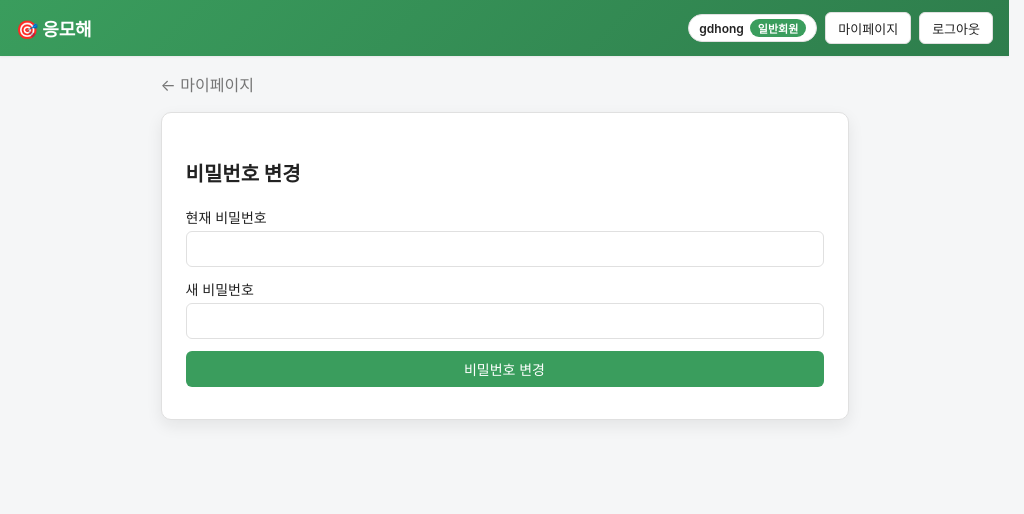
Test: MyPasswordChange › 비밀번호 변경 실패(401) 시 에러 메시지 표시, 로그아웃 안 됨
Type "wrongpass" into the password field labelled "현재 비밀번호". click: {"x": 504, "y": 249}
box: [186,231,824,267]
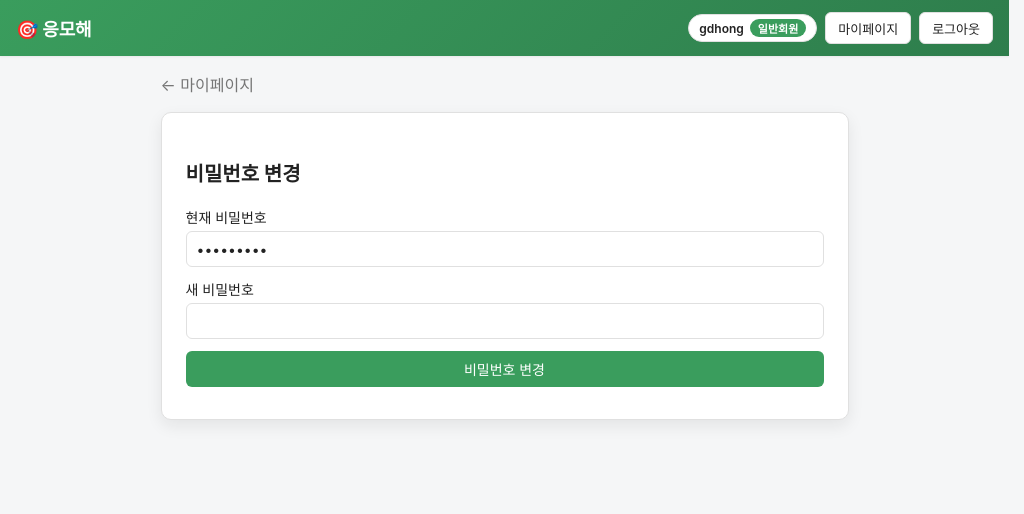
Type "newpass" into the password field labelled "새 비밀번호". click: {"x": 504, "y": 321}
box: [186,303,824,339]
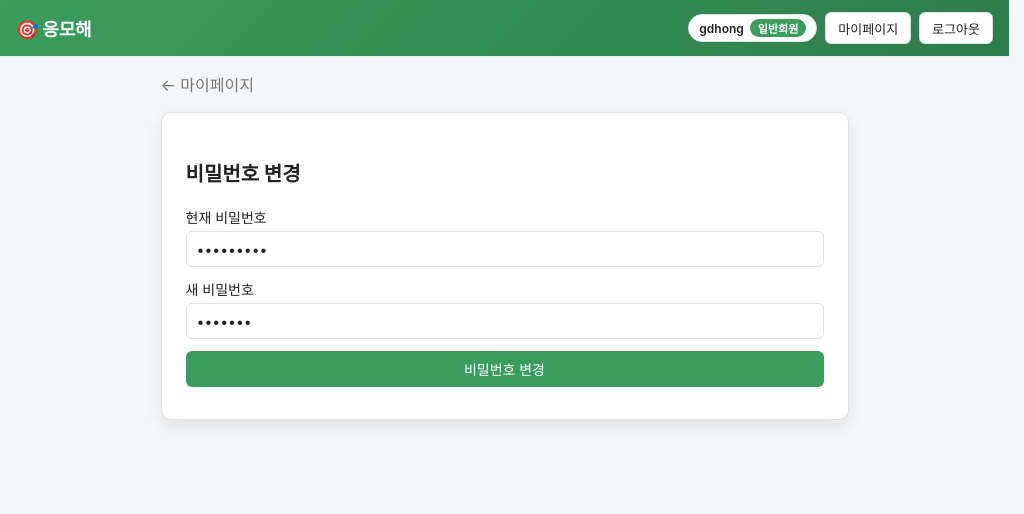
Click the button "비밀번호 변경". click: {"x": 504, "y": 369}
box: [186,351,824,387]
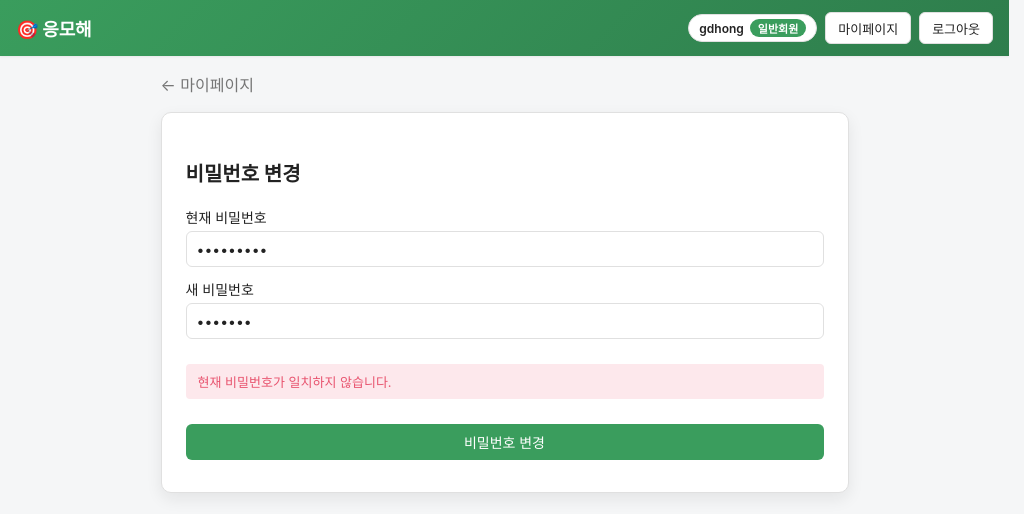
Result: the message reads "현재 비밀번호가 일치하지 않습니다." at [198,374,392,390]
